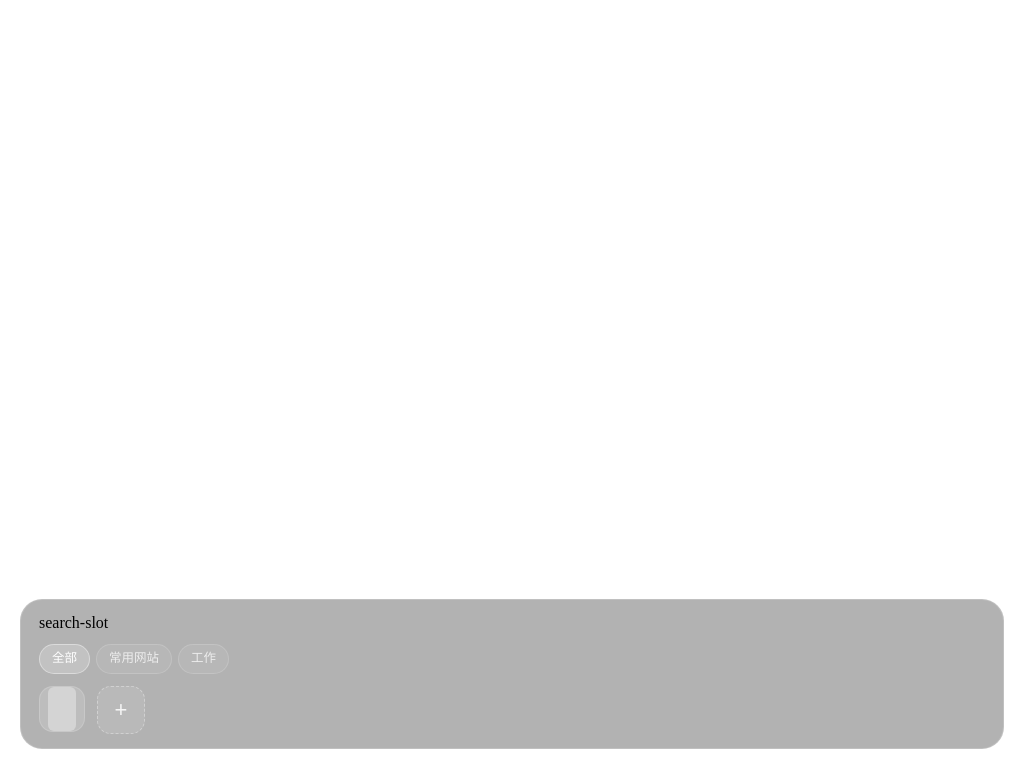
Test case: ShortcutDock 右键菜单（0003 改善 1/2） › 删除分组需两步确认，组内快捷方式移入剩余第一个分组
Right-click the button "工作": point(204, 659) [178,644,229,674]
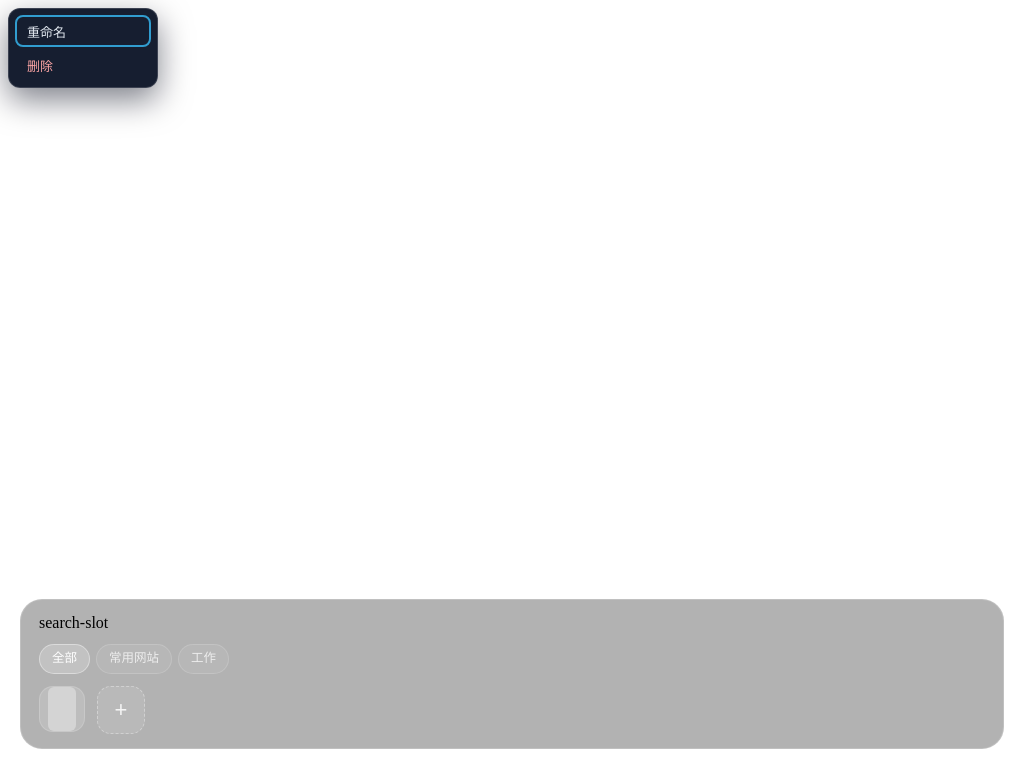
Click the menu item "删除": point(83, 65) [15,49,151,81]
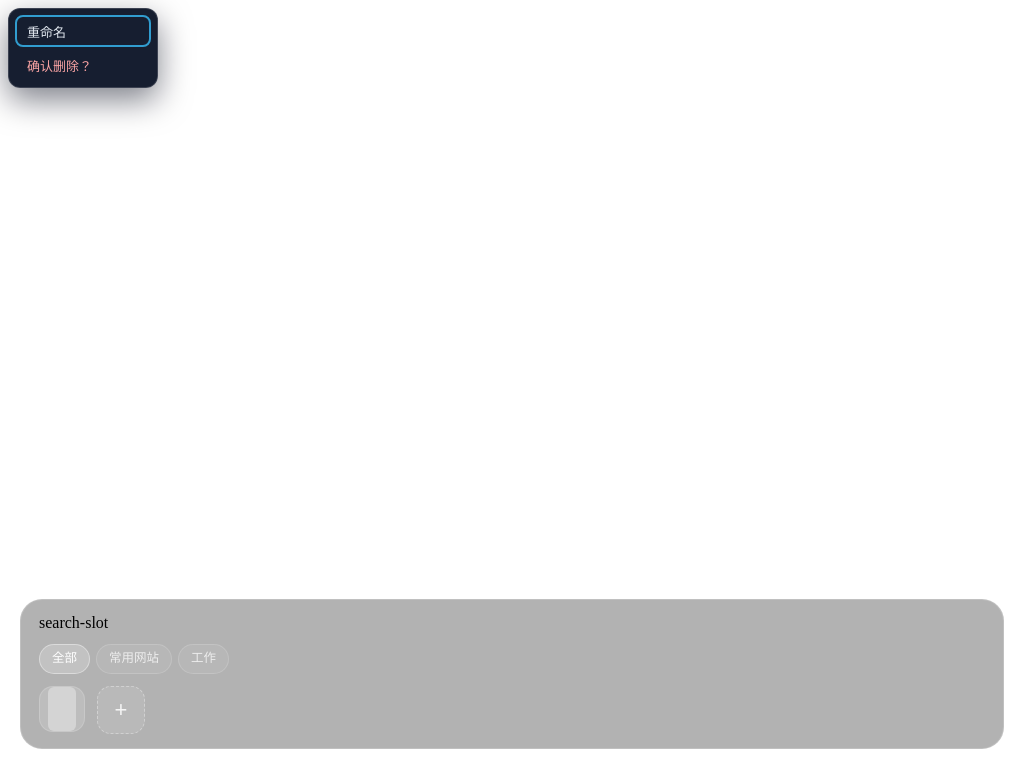
Expected: the menu item "确认删除？" is shown
Click the menu item "确认删除？": point(83, 65) [15,49,151,81]
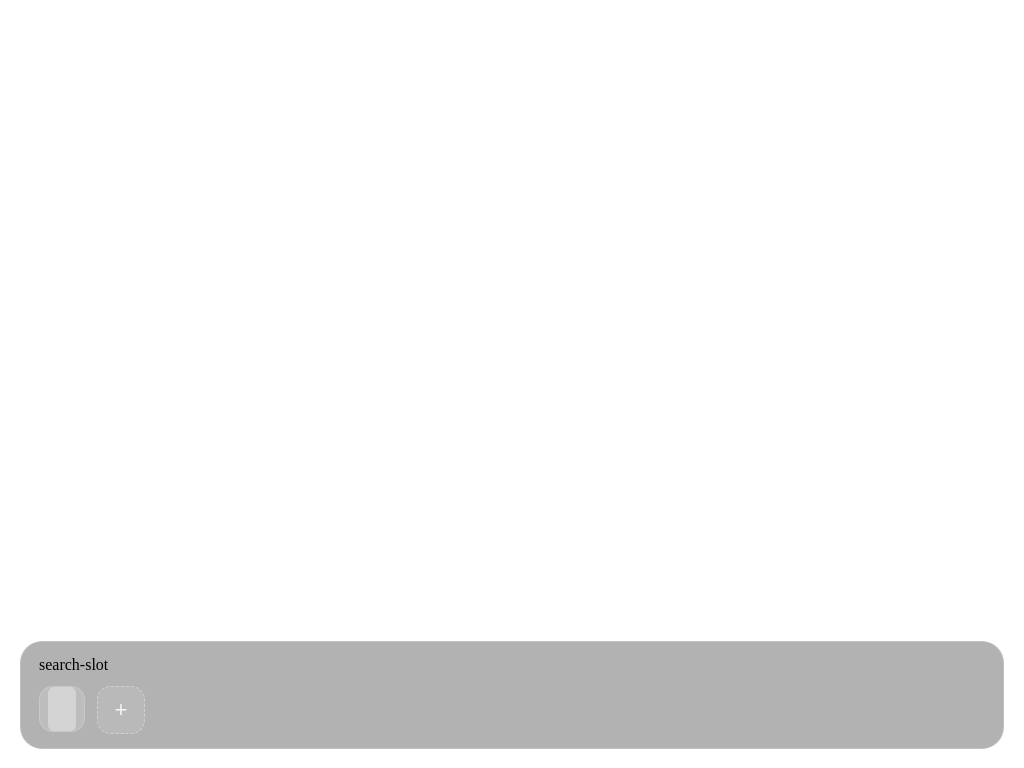
Expected: the button "工作" is gone
